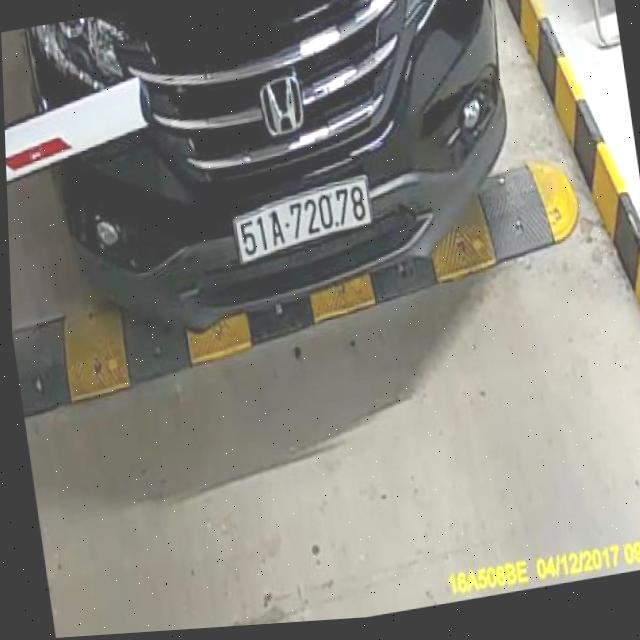car: (17, 0, 543, 354)
plate: (228, 177, 381, 263)
